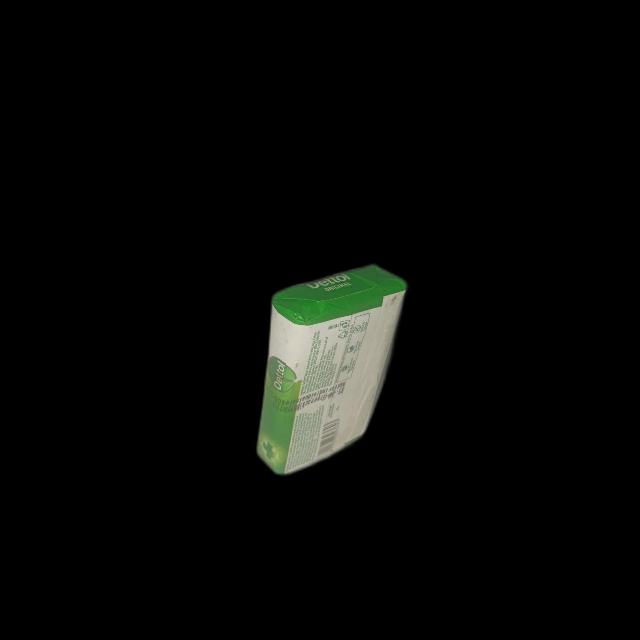Dettol Bathing Soap Bar - Original 125g: (262, 261, 408, 474)
